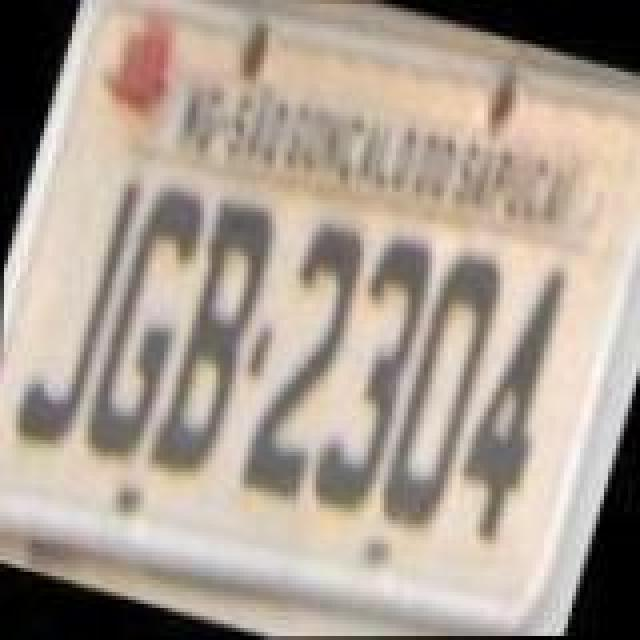2: (236, 216, 368, 508)
3: (302, 228, 446, 524)
4: (442, 256, 578, 552)
B: (142, 192, 282, 484)
G: (76, 176, 212, 468)
J: (6, 160, 146, 456)
O: (366, 244, 510, 544)
